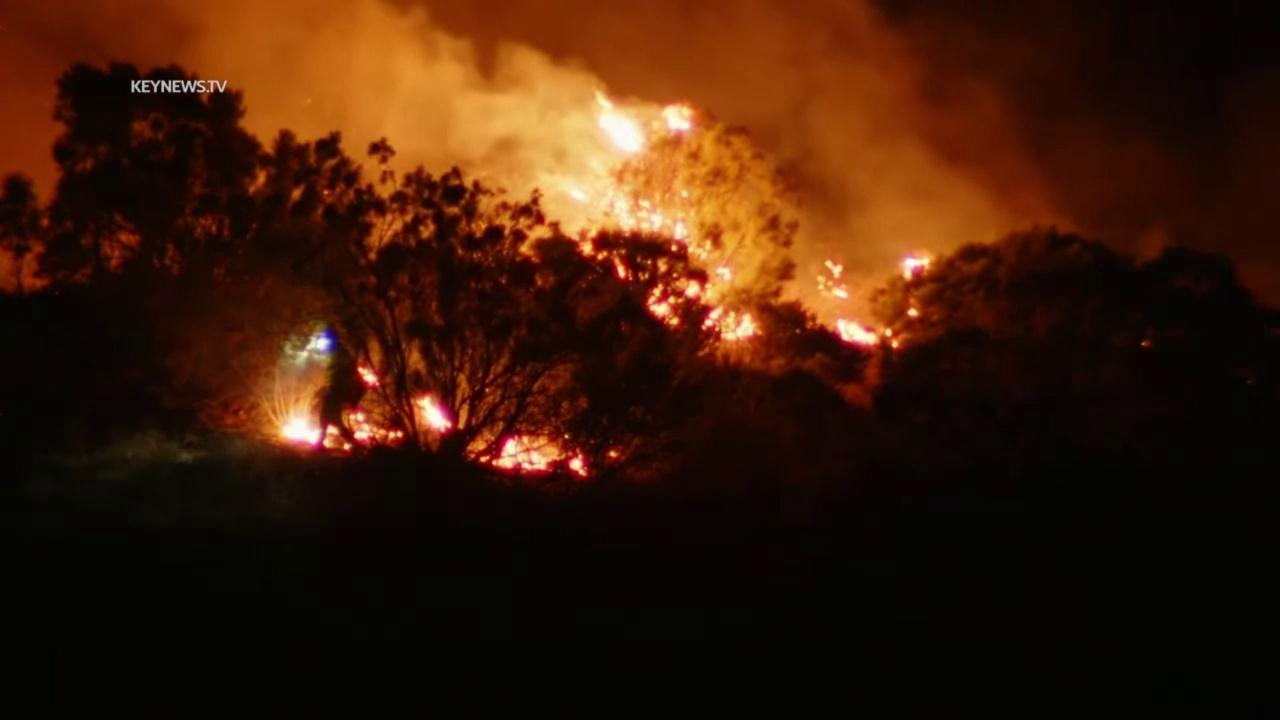fire: (560, 186, 761, 341), (279, 409, 404, 455), (590, 88, 647, 156), (474, 430, 553, 474), (413, 391, 454, 435), (810, 259, 849, 299), (834, 317, 881, 346), (894, 250, 935, 283), (661, 101, 693, 135), (565, 451, 589, 479), (354, 365, 381, 389), (601, 443, 624, 460), (884, 326, 900, 349), (903, 303, 920, 319)
smoke: (0, 0, 1280, 316)
